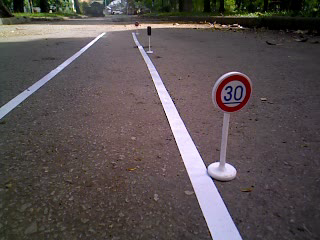limit 30: (211, 70, 253, 115)
